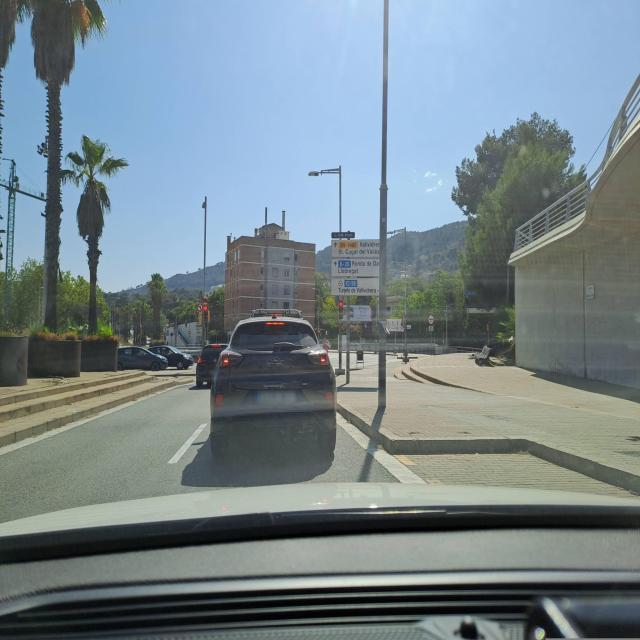car: (210, 308, 337, 460), (196, 342, 228, 388), (117, 344, 168, 370), (148, 344, 193, 369)
